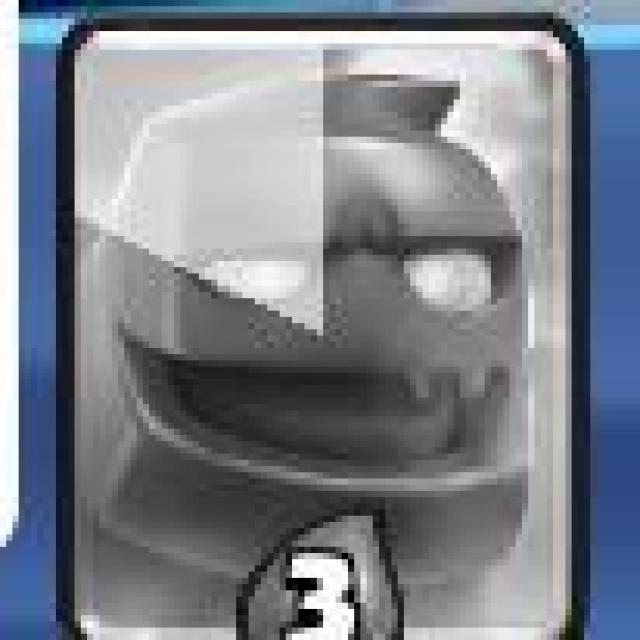Elixir_Golem: (49, 20, 593, 640)
